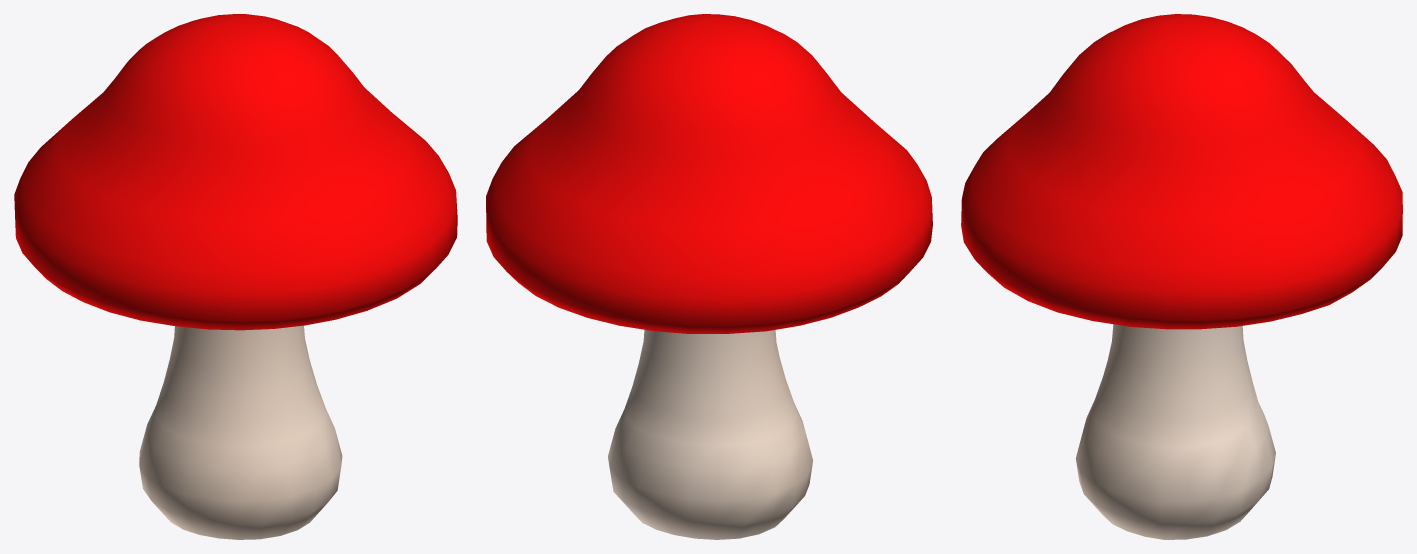
File: mushroom 23.fbx
The picture shows the model from 3 angles, left to right: view 1: azimuth 30°, elevation 25°; view 2: azimuth 150°, elevation 25°; view 3: azimuth 270°, elevation 25°; orthographic projection.
Visible parts, largest first — view 1: Mushroom_0001_0023; view 2: Mushroom_0001_0023; view 3: Mushroom_0001_0023.
Part boxes in pixels (left/top/right/bottom): Mushroom_0001_0023: left=14, top=14, right=457, bottom=539; Mushroom_0001_0023: left=486, top=14, right=932, bottom=539; Mushroom_0001_0023: left=961, top=14, right=1402, bottom=539.
Bounding box in the file's own units: 24.12 × 29.27 × 24.15.
1 material, 1 textured.
